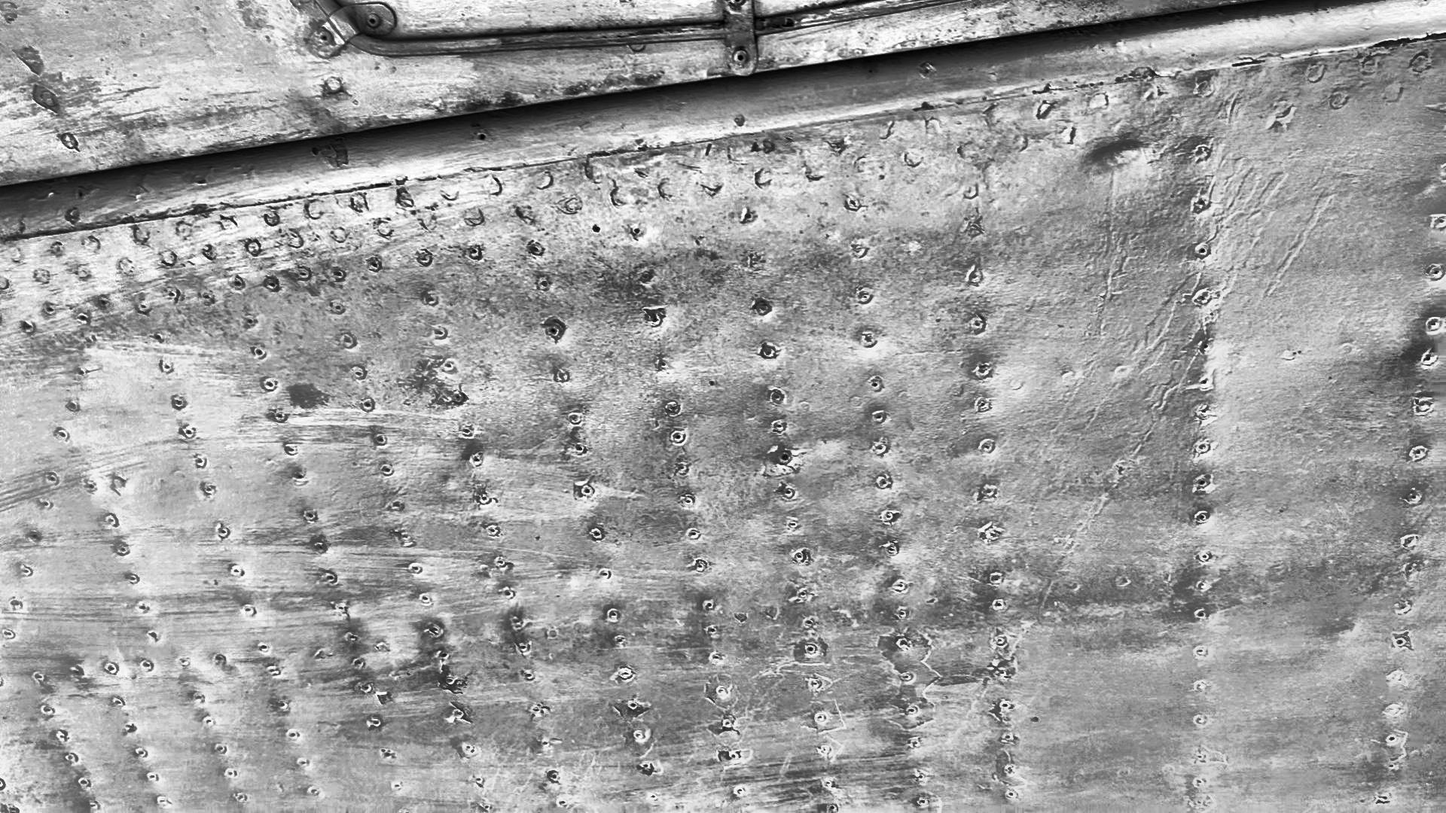dent: (1094, 139, 1147, 166)
